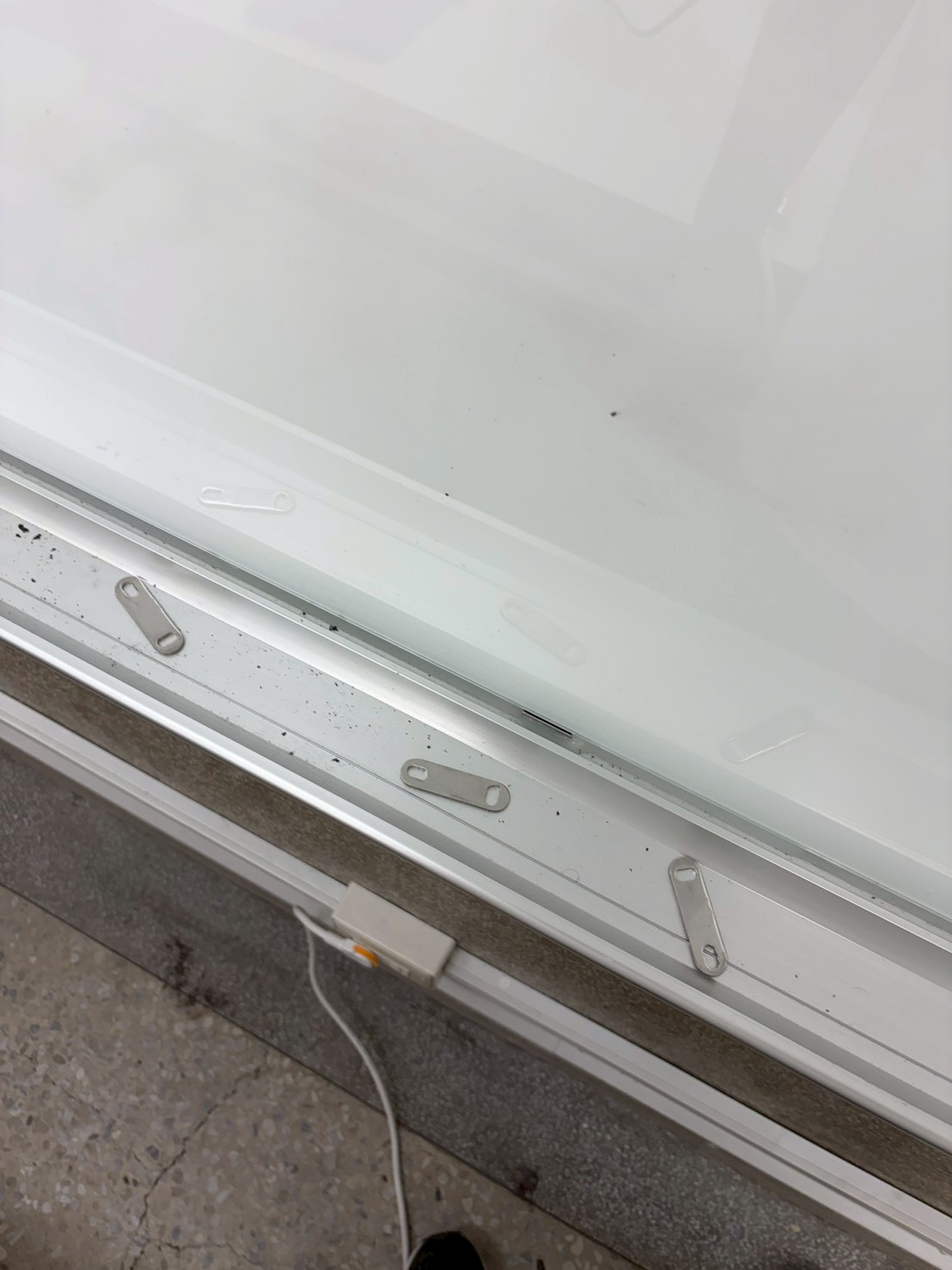Fe: (655, 850, 727, 983), (395, 753, 508, 815), (113, 576, 182, 659)
